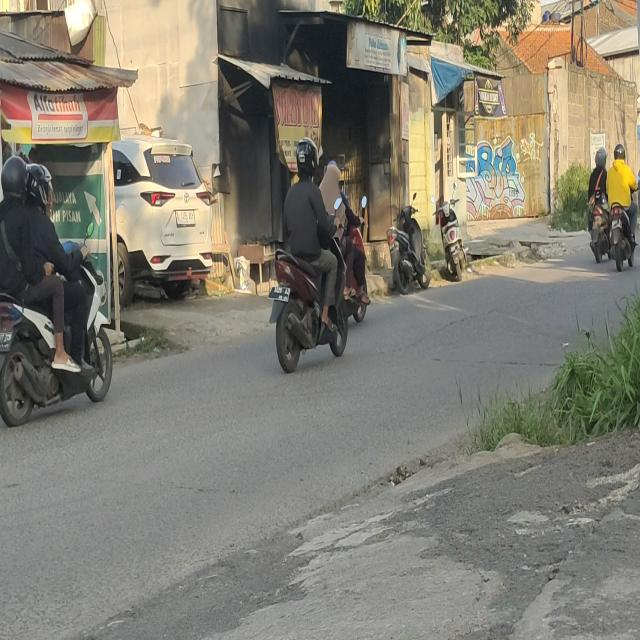helmet: (2, 154, 26, 198), (28, 164, 51, 207), (297, 139, 319, 180), (614, 144, 626, 161), (596, 146, 606, 166)
no-helmet: (327, 163, 340, 186)
